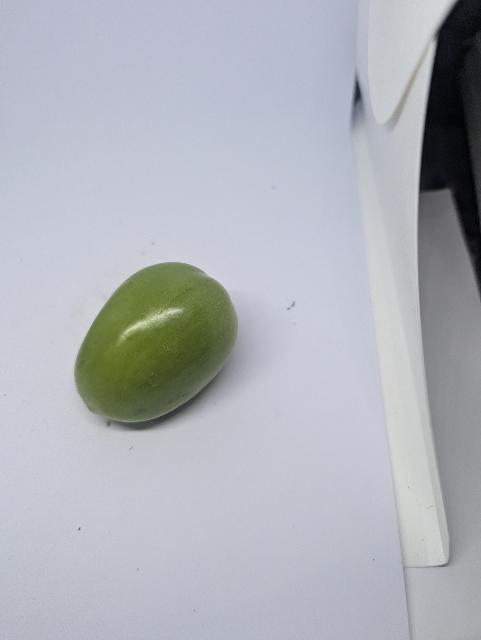green: (56, 247, 270, 478)
